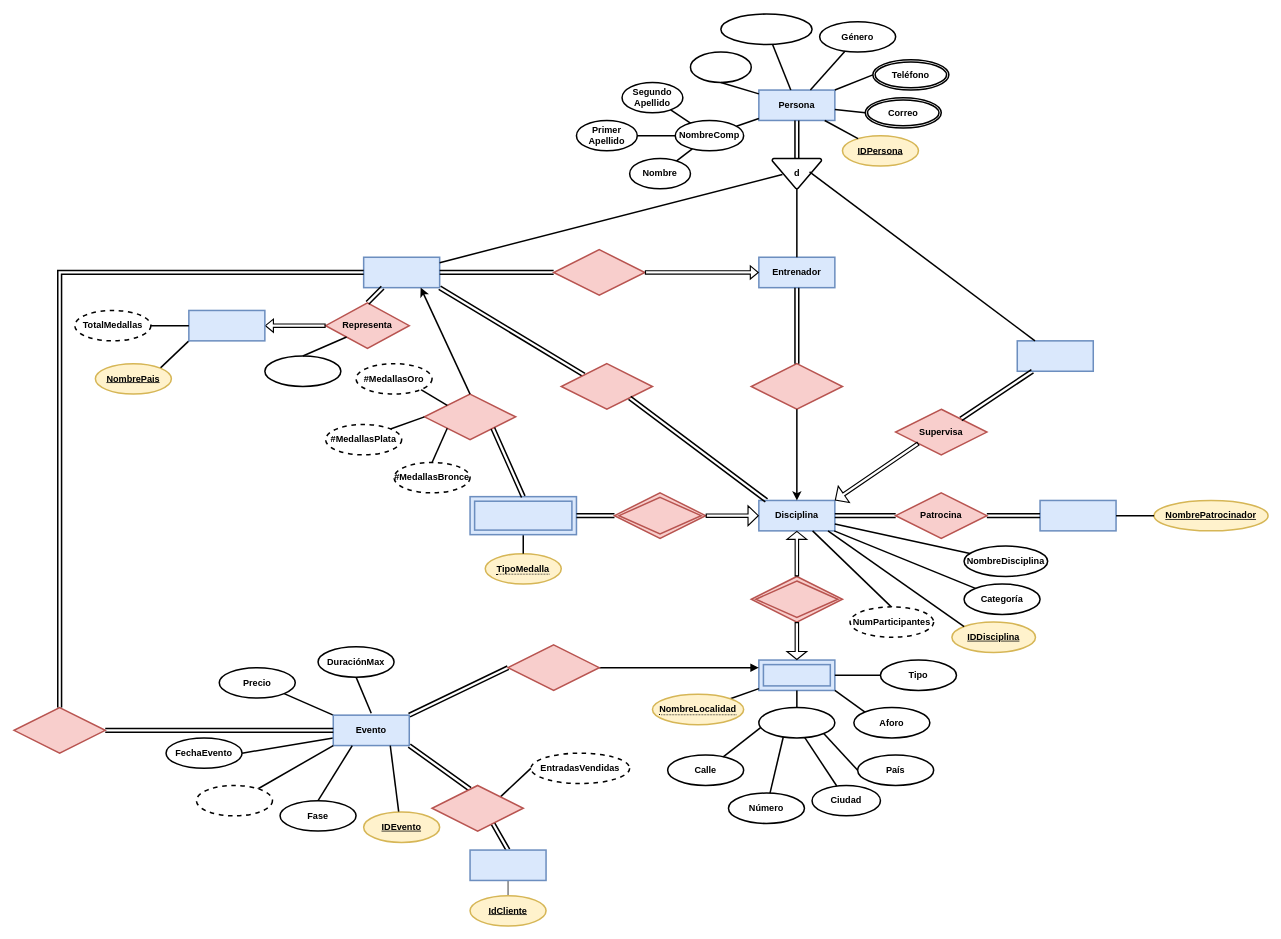
Some shapes in this 1281 by 939 pixel diagram are drawn without their labels. The shapes that lost their labels are listed below. From the top down, each one's centre as x and y in pixels, then its label:
(x=766, y=29): FechaNacimiento
(x=720, y=67): Nacionalidad
(x=401, y=272): Atleta
(x=599, y=272): Entrenar
(x=226, y=325): Pais
(x=302, y=371): Temporada
(x=1055, y=356): Árbitro
(x=606, y=386): Participa
(x=796, y=386): Pertenece
(x=469, y=416): Consigue
(x=523, y=515): Medalla
(x=659, y=515): Tiene
(x=1077, y=515): Patrocinador
(x=796, y=598): Ubicar
(x=553, y=667): Esta
(x=796, y=675): Localidad
(x=59, y=730): Concursa
(x=796, y=722): Dirección
(x=234, y=800): Participantes
(x=477, y=807): CompraEntrada
(x=507, y=865): Cliente
